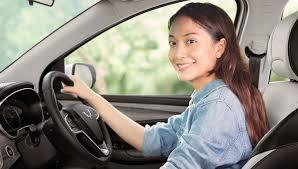Awake: (152, 0, 242, 91)
